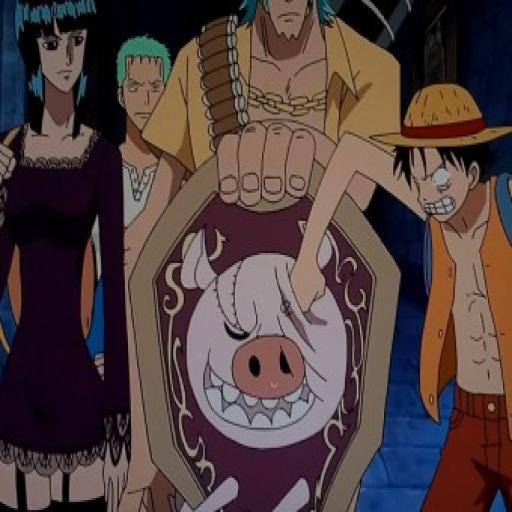Luffy: (367, 82, 512, 235)
NicoRobin: (0, 0, 105, 135)
Zoro: (113, 34, 175, 139)
